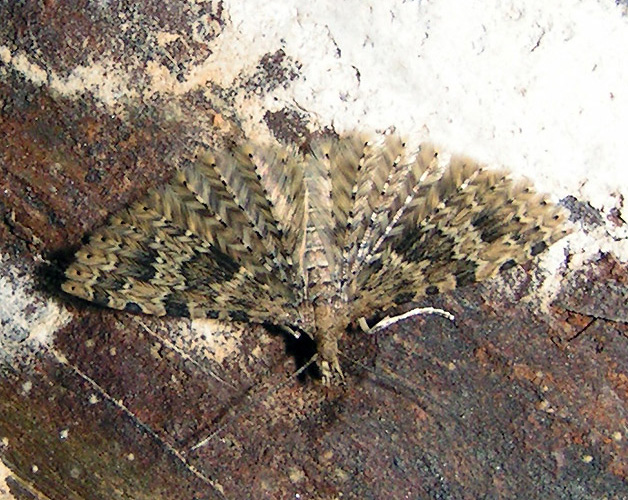Alucitidae: (61, 110, 579, 454)
moth: (63, 112, 581, 456)
